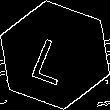L_N: (30, 26, 80, 84)
